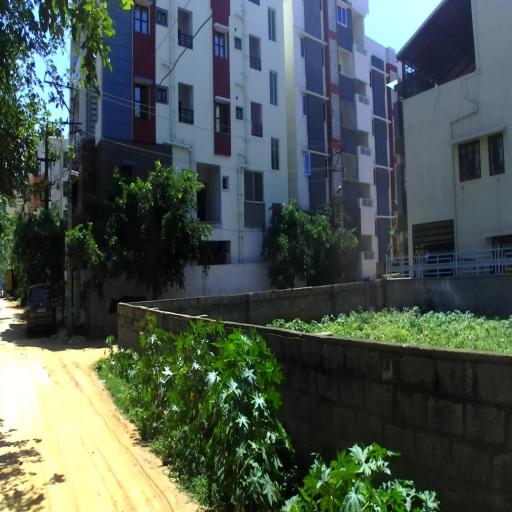street_light_0: (67, 170, 79, 202)
